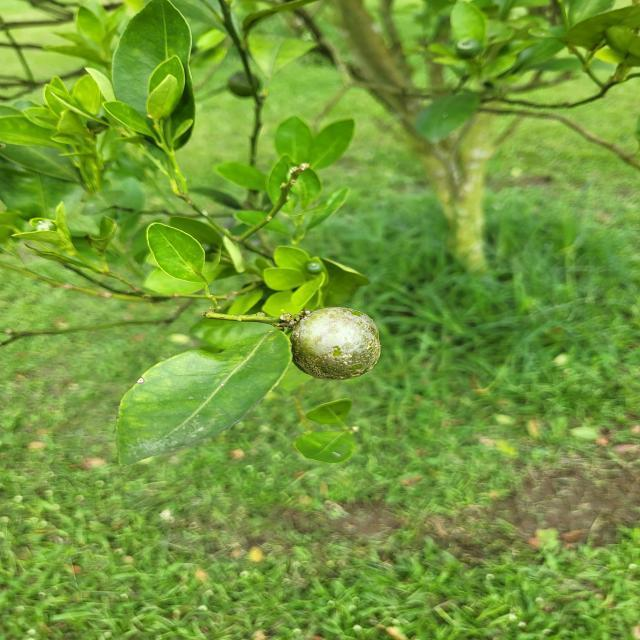thrips: (288, 305, 381, 380)
